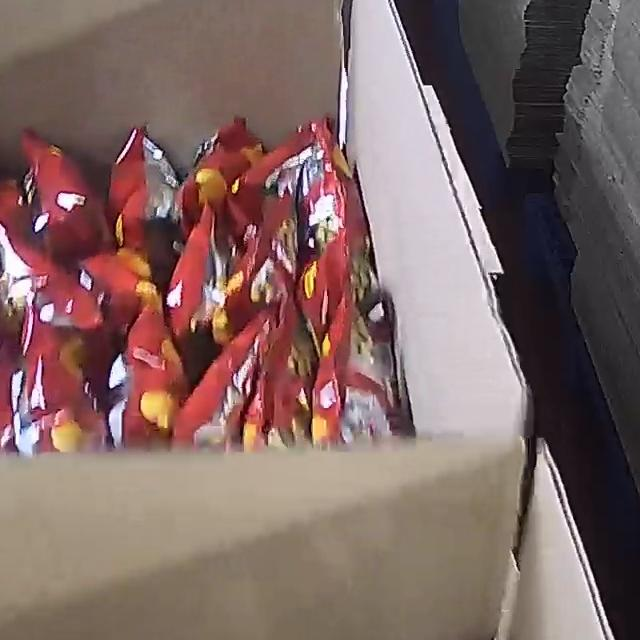masala: (0, 110, 405, 458)
